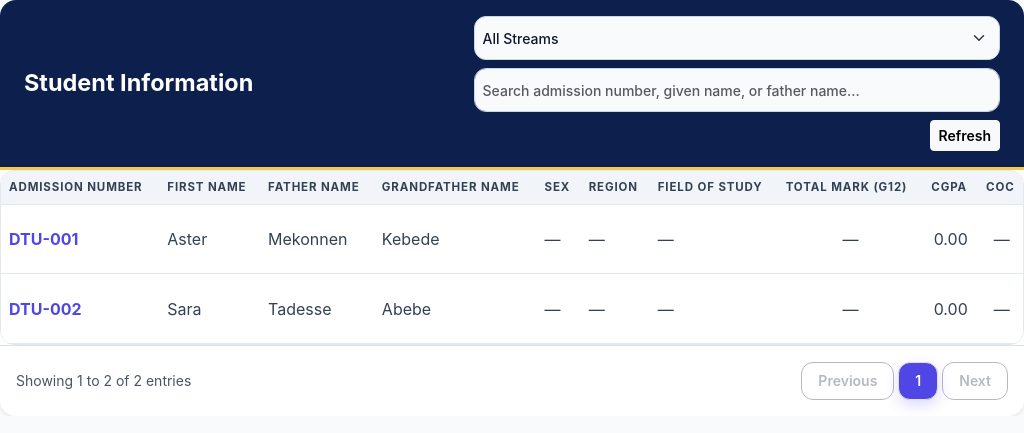
Scenario: StudentInformation › searches by admission number, given name, and father name
In the field with placeholder "Search admission number, given name, or father name...": (737, 90) x1=474 y1=68 x2=1000 y2=112, type "mekonnen"
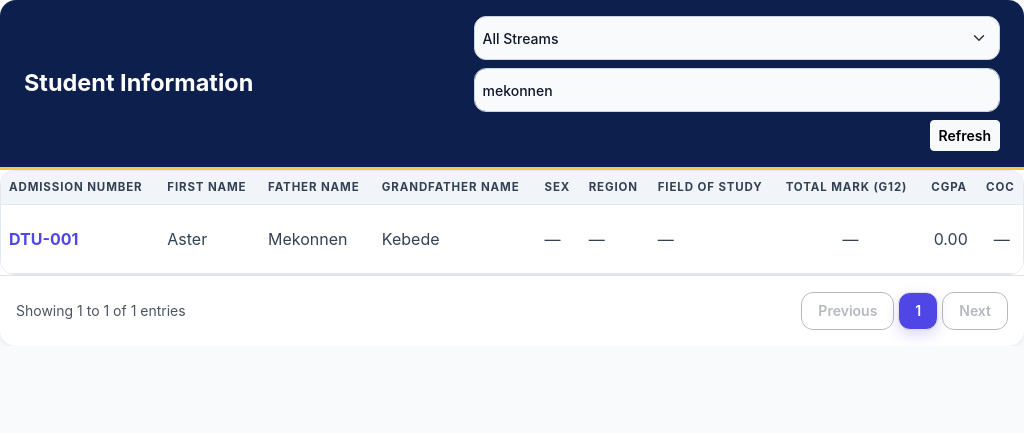
Expected: the row "DTU-001" is shown, x1=1 y1=205 x2=1023 y2=274
Expected: the cell "DTU-002" is gone
Replace the text in the field with placeholder "Search admission number, given name, or father name..." with "DTU-002": (737, 90) x1=474 y1=68 x2=1000 y2=112
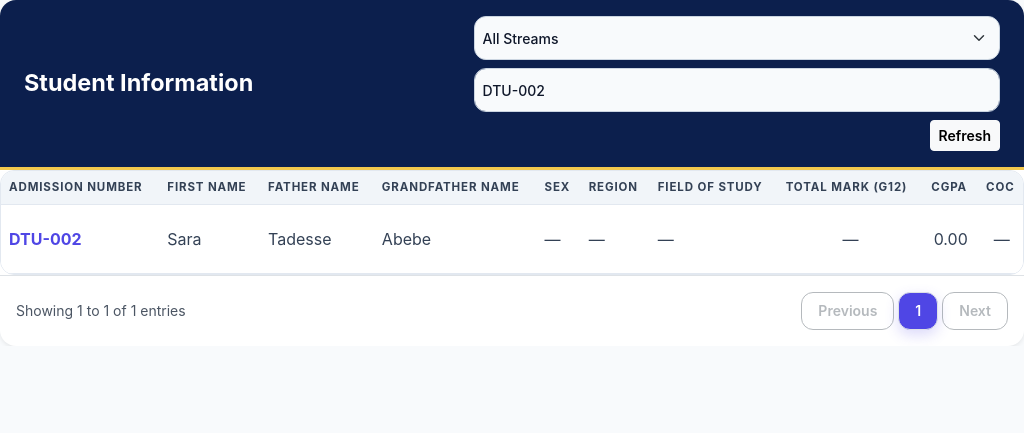
Expected: the row "DTU-002" is shown, x1=1 y1=205 x2=1023 y2=274
Expected: the cell "DTU-001" is gone
